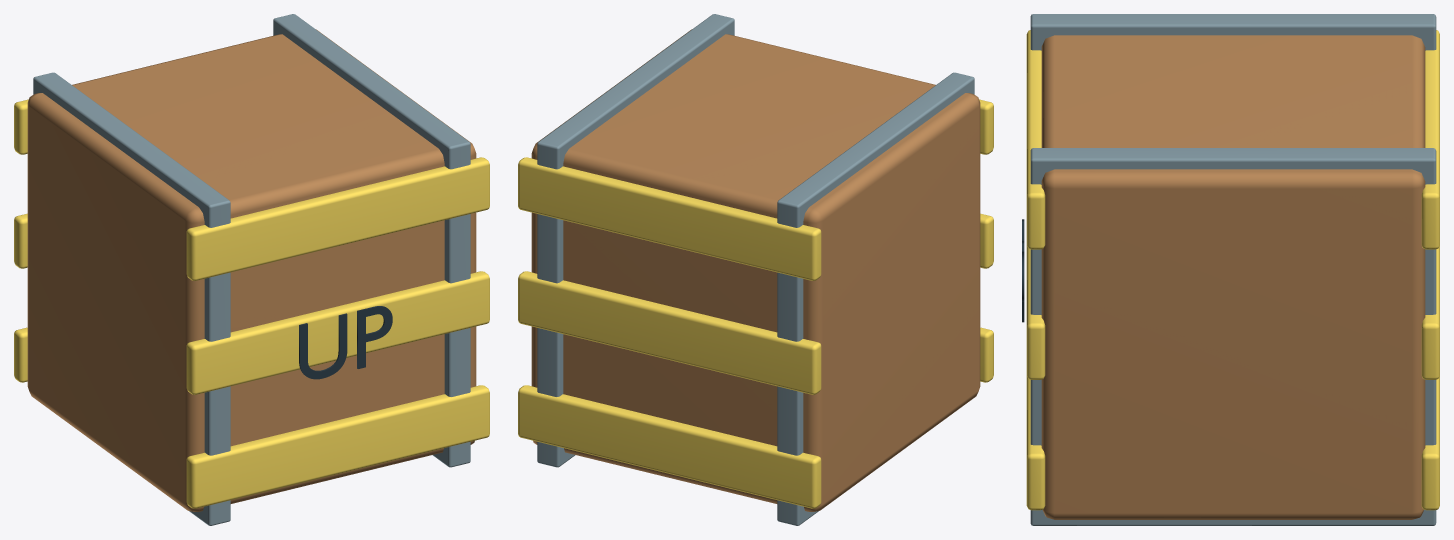
Rendered from crate.glb.
3 renders of one model, left to right at view 1: azimuth 30°, elevation 25°; view 2: azimuth 150°, elevation 25°; view 3: azimuth 270°, elevation 25°, orthographic. The views are drawn at different scales.
Parts seen in each view (by area): view 1: Crate core, Wood slat, Wood slat.004, Wood slat.002, Steel band, Steel band.001, Cargo stencil, Wood slat.003, Wood slat.005, Wood slat.001; view 2: Crate core, Wood slat.001, Wood slat.003, Wood slat.005, Steel band, Steel band.001, Wood slat.002, Wood slat.004, Wood slat; view 3: Crate core, Steel band.001, Steel band, Wood slat.004, Wood slat.005, Wood slat, Wood slat.002, Wood slat.001, Wood slat.003.
Boxes of the visible parts, x1=… form: Crate core: x1=27, y1=29, x2=476, y2=511; Wood slat: x1=186, y1=385, x2=489, y2=508; Wood slat.004: x1=186, y1=157, x2=489, y2=280; Wood slat.002: x1=186, y1=271, x2=489, y2=394; Steel band: x1=33, y1=72, x2=230, y2=525; Steel band.001: x1=273, y1=14, x2=470, y2=467; Cargo stencil: x1=299, y1=306, x2=392, y2=379; Wood slat.003: x1=14, y1=213, x2=27, y2=268; Wood slat.005: x1=14, y1=99, x2=28, y2=154; Wood slat.001: x1=14, y1=327, x2=27, y2=382; Crate core: x1=531, y1=29, x2=980, y2=511; Wood slat.001: x1=518, y1=385, x2=821, y2=508; Wood slat.003: x1=518, y1=271, x2=821, y2=394; Wood slat.005: x1=518, y1=157, x2=821, y2=280; Steel band: x1=777, y1=72, x2=974, y2=525; Steel band.001: x1=537, y1=14, x2=734, y2=467; Wood slat.002: x1=980, y1=213, x2=993, y2=268; Wood slat.004: x1=979, y1=99, x2=993, y2=154; Wood slat: x1=980, y1=327, x2=993, y2=382; Crate core: x1=1041, y1=35, x2=1425, y2=519; Steel band.001: x1=1030, y1=148, x2=1436, y2=525; Steel band: x1=1030, y1=14, x2=1436, y2=50; Wood slat.004: x1=1026, y1=30, x2=1045, y2=249; Wood slat.005: x1=1421, y1=30, x2=1439, y2=249; Wood slat: x1=1026, y1=375, x2=1045, y2=510; Wood slat.002: x1=1026, y1=245, x2=1045, y2=379; Wood slat.001: x1=1421, y1=376, x2=1439, y2=510; Wood slat.003: x1=1421, y1=245, x2=1439, y2=379.
Size of the model in its own units: 1.07 by 1.1 by 1.13.
